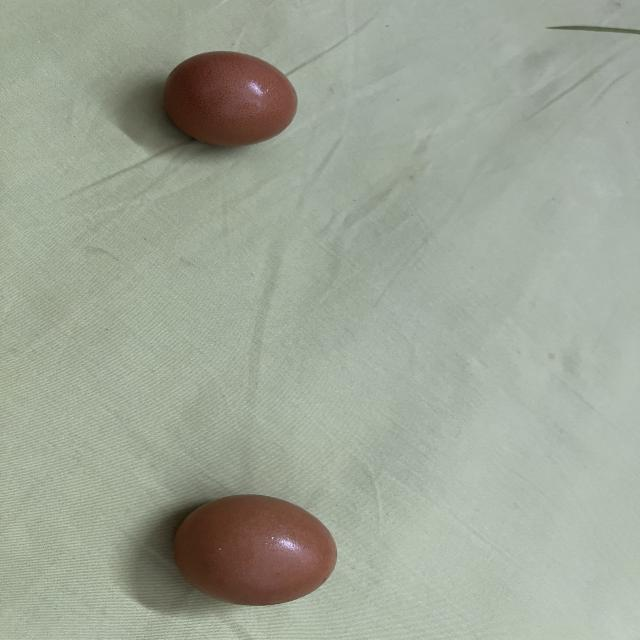egg: (171, 487, 343, 606), (158, 46, 302, 148)
